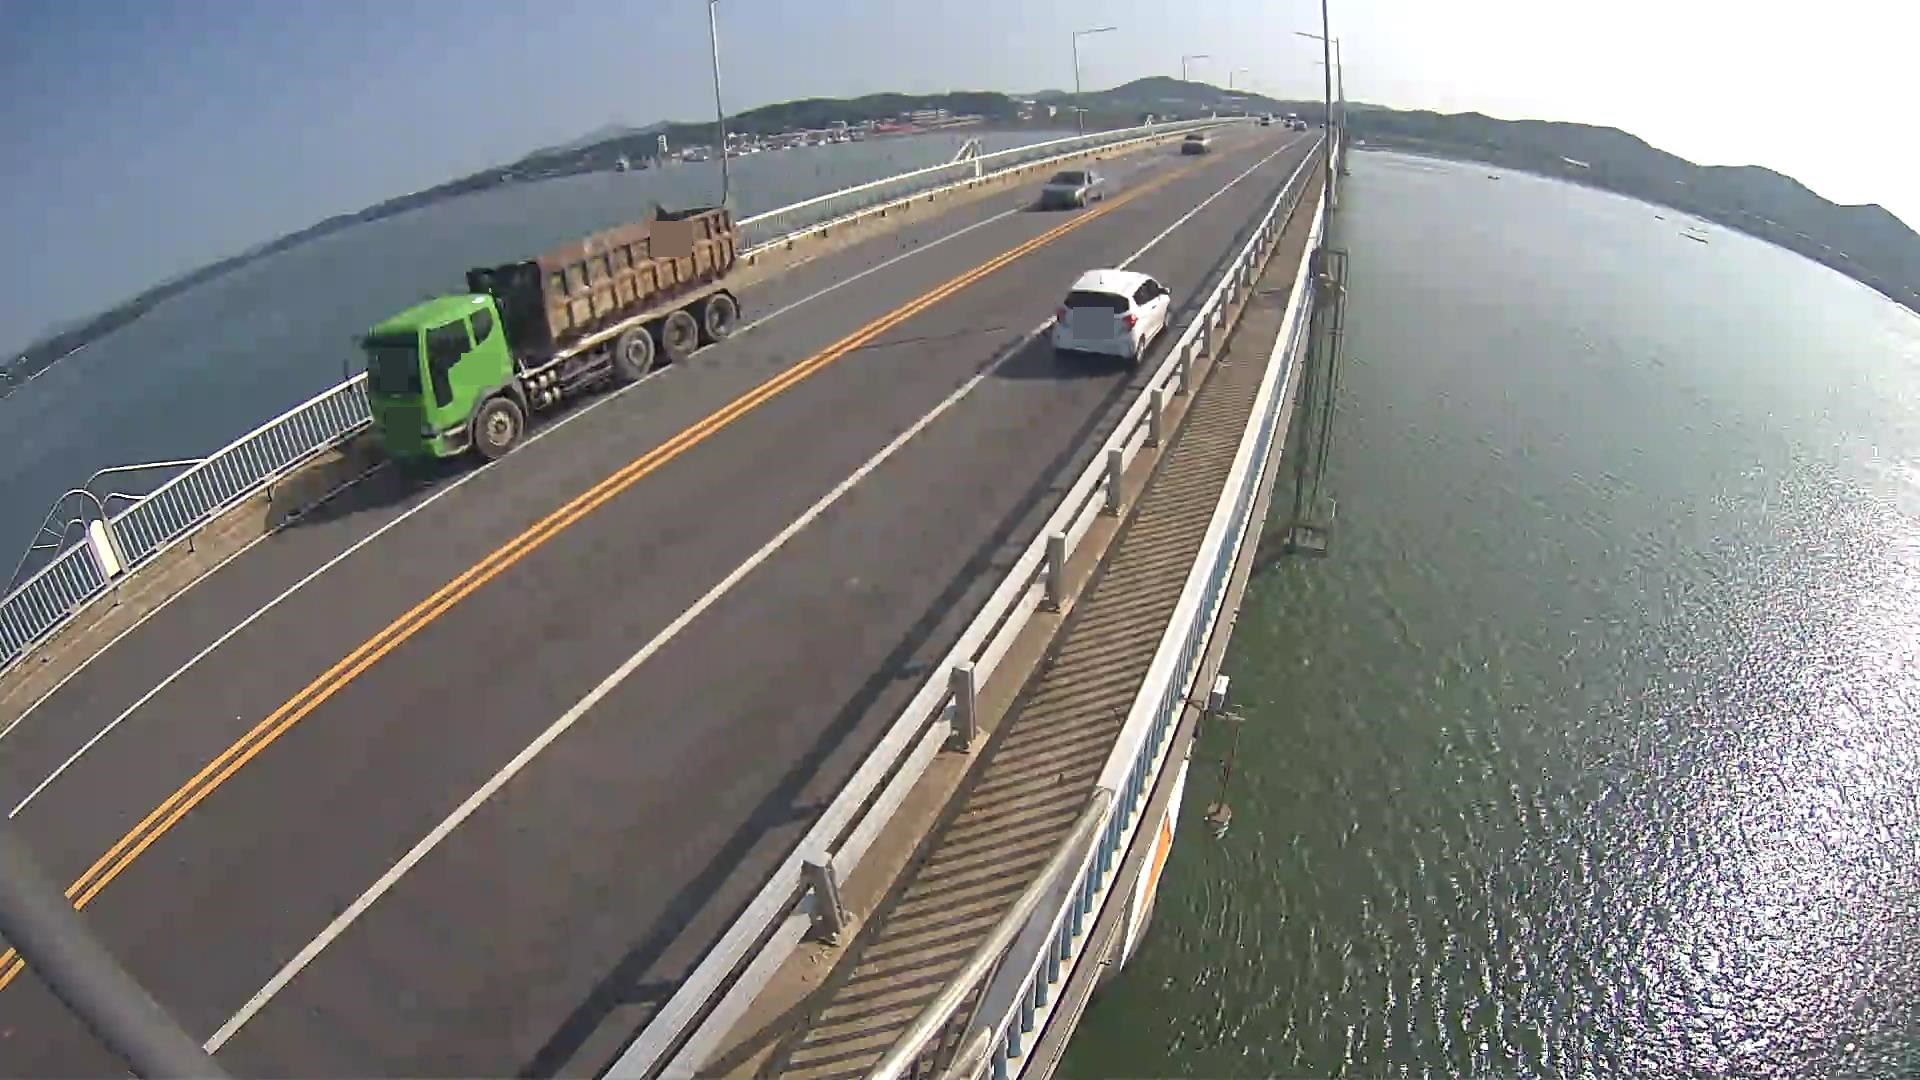정상차량: (343, 200, 741, 459)
